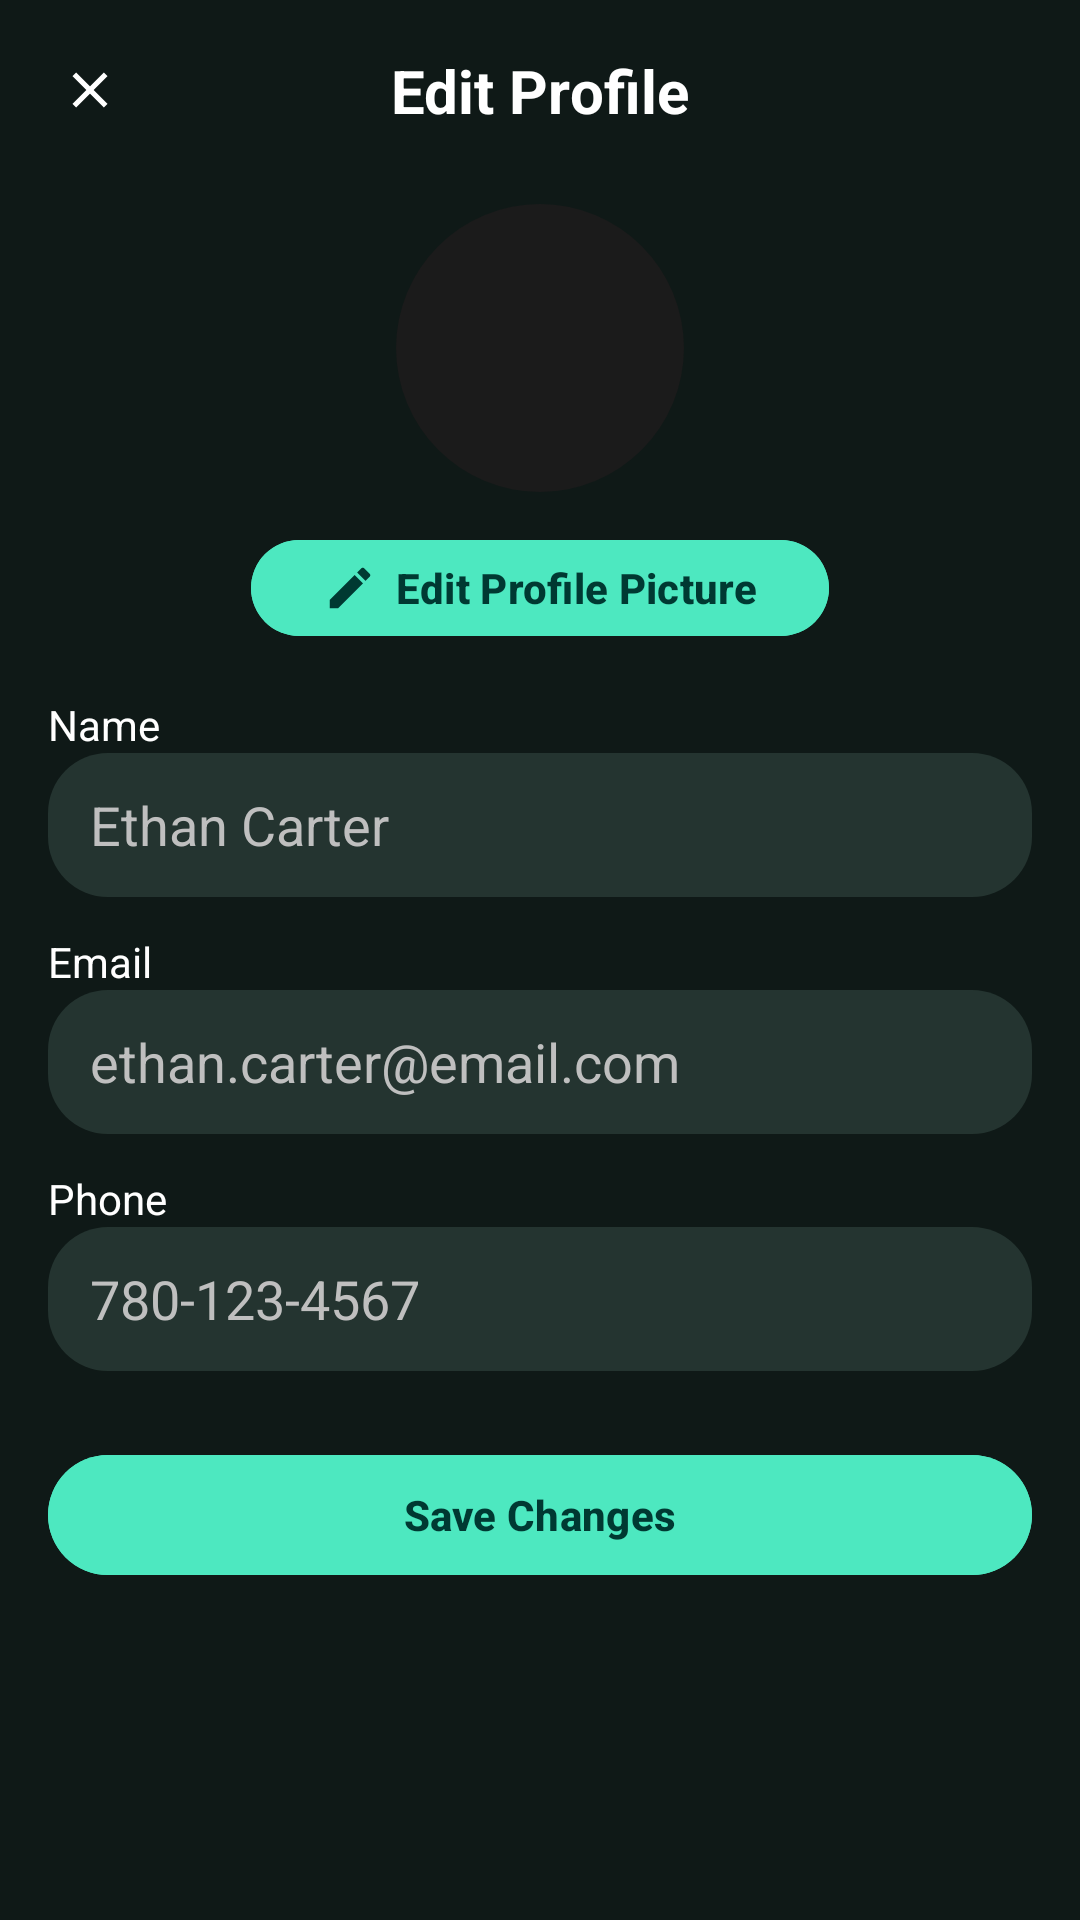

Where to tap for icons on this 1080px x 1920px app screen, as [x,y]:
Close: [90,90]
